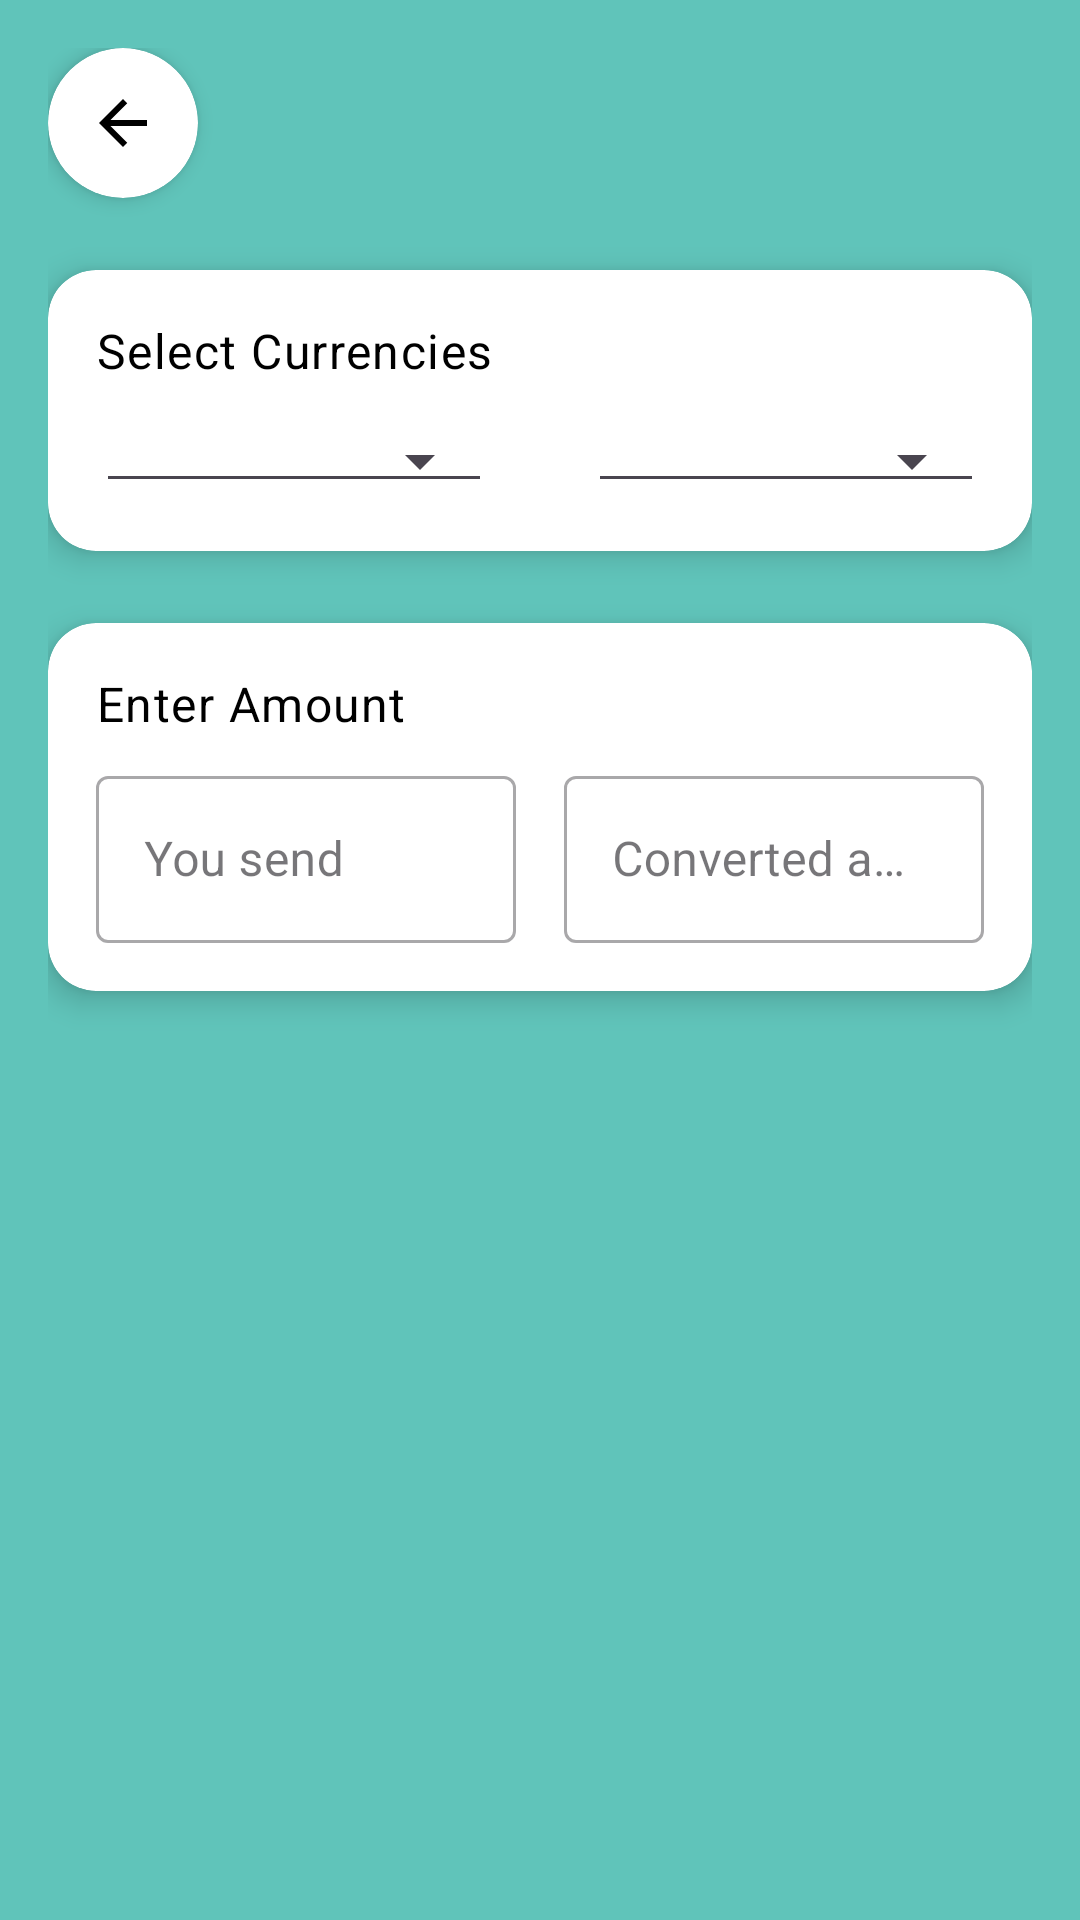

Named icons in this screenshot (1080 × 1920) and their bounding boxes, {"left": x1, "top": y1, "right": x2, "bottom": y2}:
Back Button: {"left": 48, "top": 48, "right": 198, "bottom": 198}
